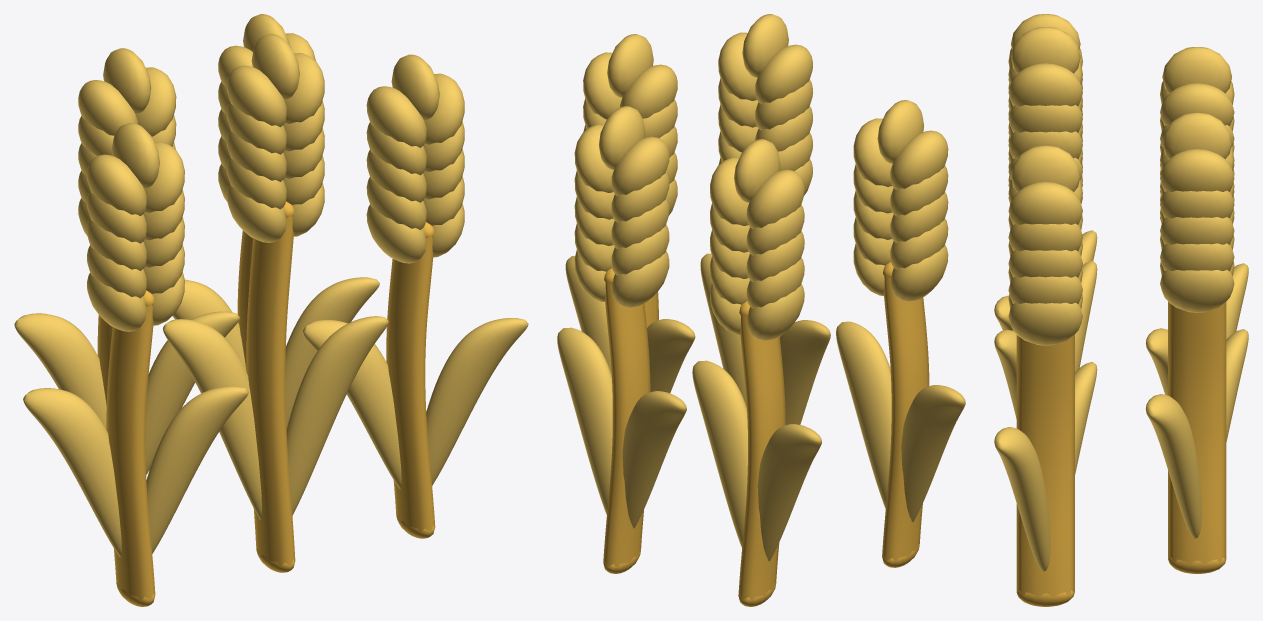
File: crop_1_stage_3.fbx
3 views of the same model, side by side, from view 1: azimuth 30°, elevation 25°; view 2: azimuth 150°, elevation 25°; view 3: azimuth 270°, elevation 25° (orthographic). The views are drawn at different scales.
Visible parts, largest first — view 1: crop_1_stage_3; view 2: crop_1_stage_3; view 3: crop_1_stage_3.
Boxes of the visible parts, box(x1,y1,x2,y2) form: crop_1_stage_3: box(14, 14, 528, 606); crop_1_stage_3: box(557, 14, 965, 606); crop_1_stage_3: box(994, 14, 1248, 606).
Bounding box in the file's own units: 0.72 × 0.8 × 0.36.
1 material, 1 textured.
